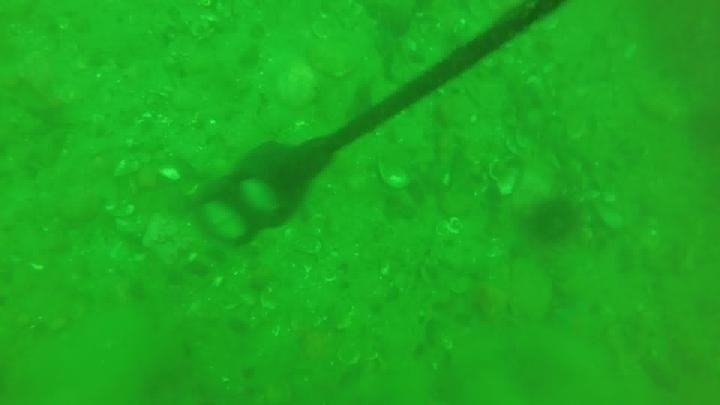echinus: (527, 195, 582, 245)
